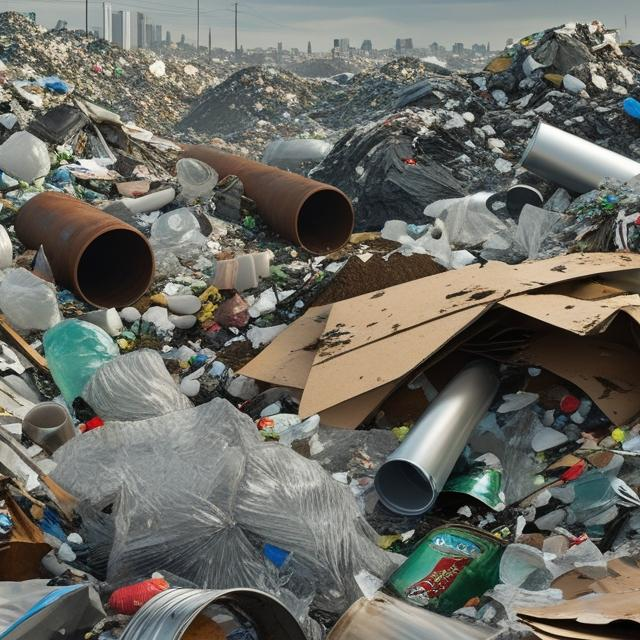metal: (112, 588, 319, 640)
